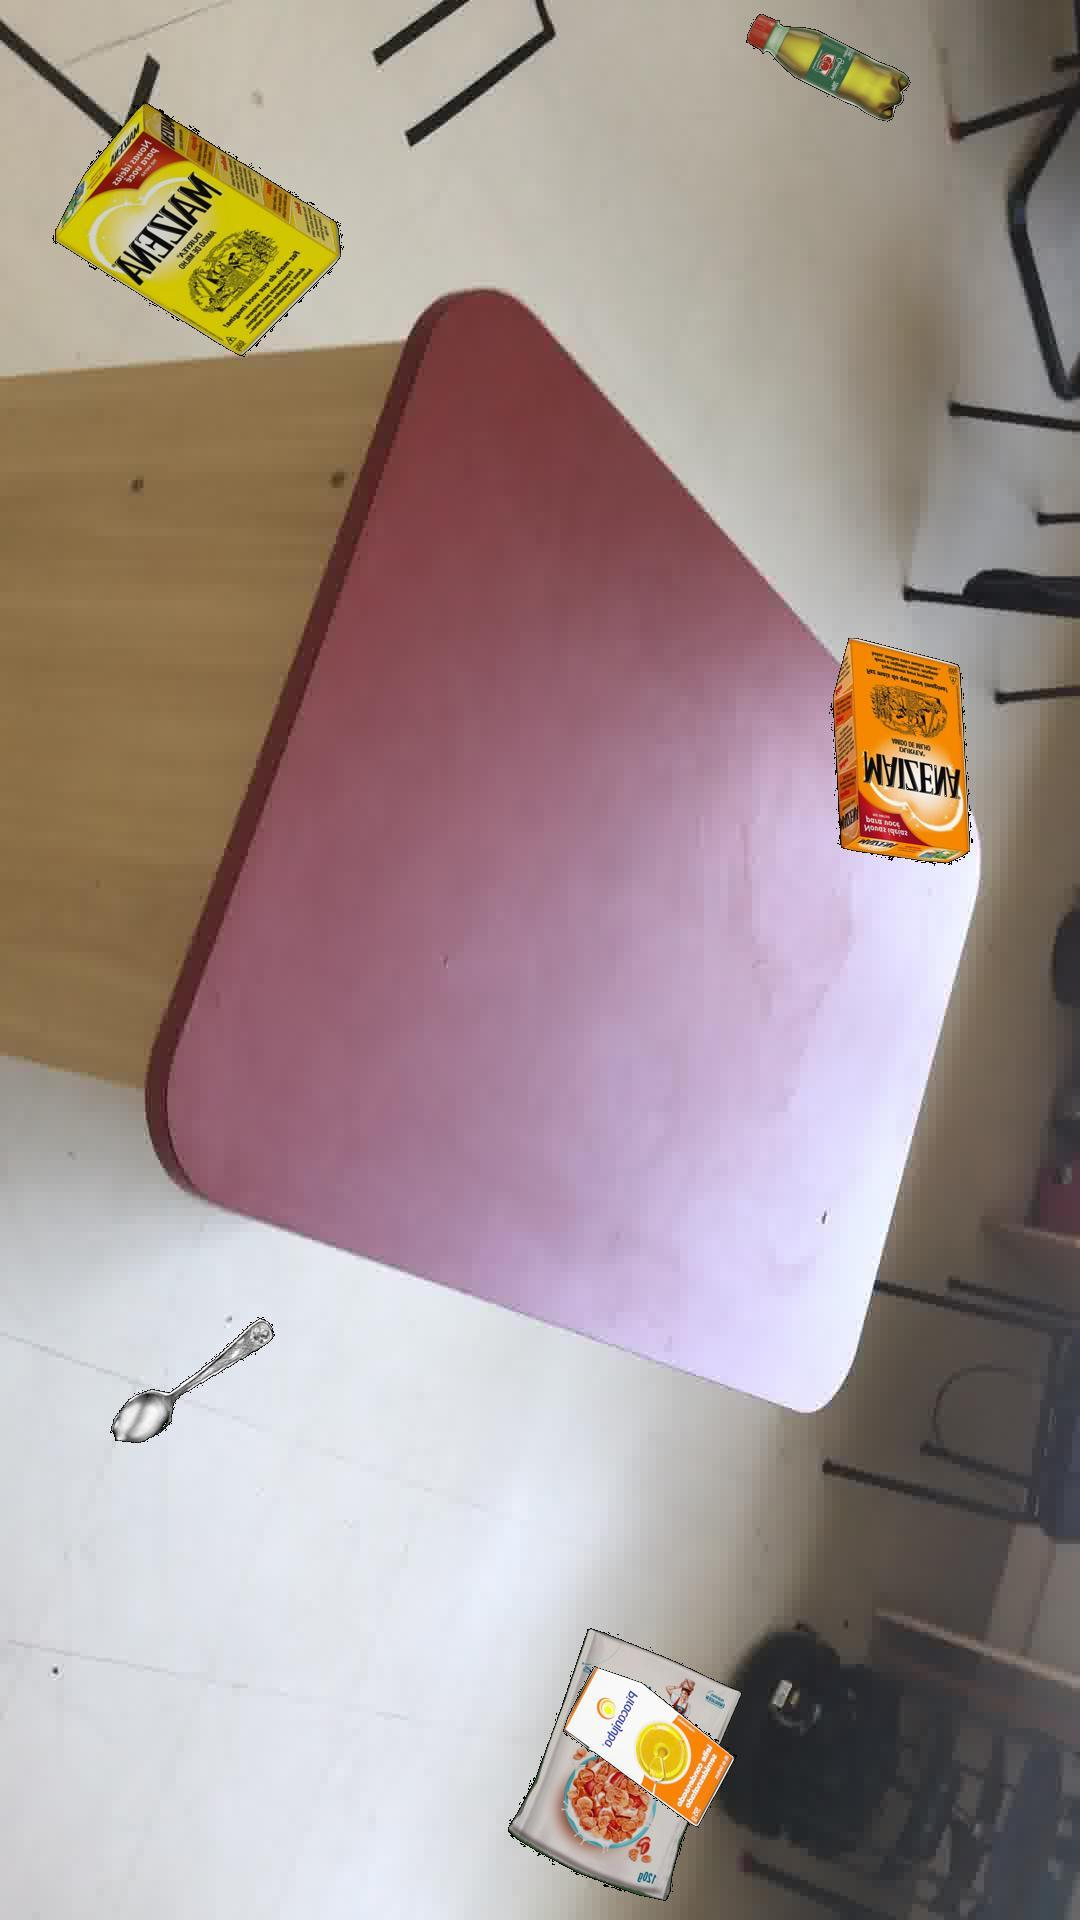corn flakes: (506, 1626, 741, 1899)
guarana: (745, 12, 910, 120)
spoon: (109, 1316, 273, 1441)
